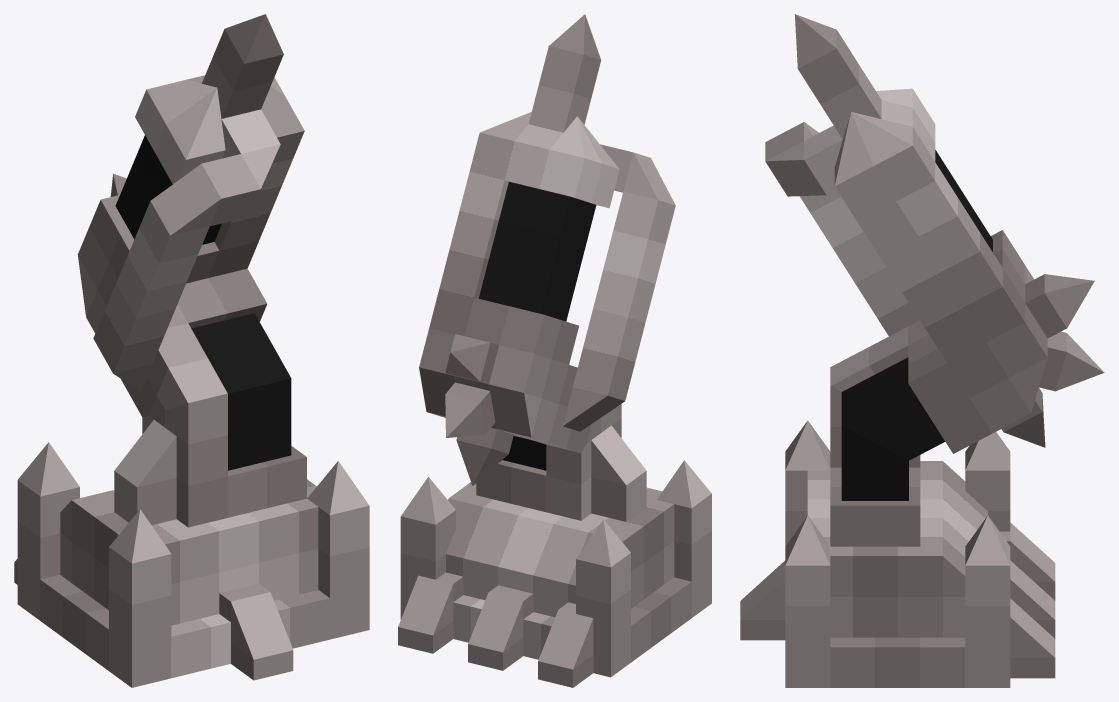
File: leg_reinforced_l.obj
3 renders of one model, left to right at view 1: azimuth 30°, elevation 25°; view 2: azimuth 150°, elevation 25°; view 3: azimuth 270°, elevation 25°, orthographic. The views are drawn at different scales.
Visible parts, largest first — view 1: LEG_LEFT_REINFORCED_Cube.009, LEG_LEFT_DECO_IRON_OUTERFOOT_Cube.164, LEG_LEFT_DECO_IRON_Cube.165; view 2: LEG_LEFT_REINFORCED_Cube.009, LEG_LEFT_DECO_IRON_Cube.165, LEG_LEFT_DECO_IRON_OUTERFOOT_Cube.164; view 3: LEG_LEFT_REINFORCED_Cube.009, LEG_LEFT_DECO_IRON_Cube.165, LEG_LEFT_DECO_IRON_OUTERFOOT_Cube.164.
Boxes of the visible parts, box(x1,y1,x2,y2) form: LEG_LEFT_REINFORCED_Cube.009: box(14, 75, 369, 687); LEG_LEFT_DECO_IRON_OUTERFOOT_Cube.164: box(17, 442, 171, 646); LEG_LEFT_DECO_IRON_Cube.165: box(110, 14, 369, 597); LEG_LEFT_REINFORCED_Cube.009: box(398, 112, 711, 687); LEG_LEFT_DECO_IRON_Cube.165: box(400, 14, 601, 591); LEG_LEFT_DECO_IRON_OUTERFOOT_Cube.164: box(576, 460, 711, 640); LEG_LEFT_REINFORCED_Cube.009: box(740, 88, 1055, 687); LEG_LEFT_DECO_IRON_Cube.165: box(785, 14, 1104, 647); LEG_LEFT_DECO_IRON_OUTERFOOT_Cube.164: box(785, 420, 1010, 545).
Size of the model in its own units: 0.375 by 0.9599 by 0.506.
